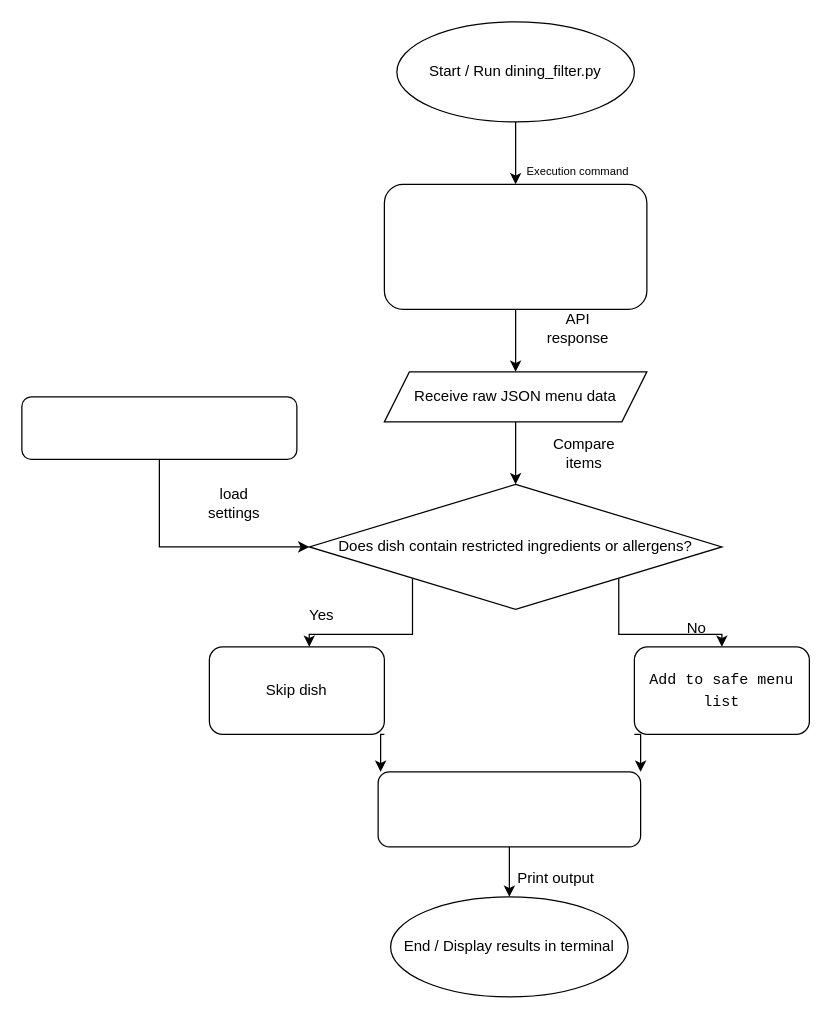
Some shapes in this 831 by 1019 pixel diagram are drawn without their labels. Each missing label, with the box of its shape:
Format safe dishes by dining hall & station: (377, 771, 641, 847)
Read user dietary restrictions (e.g., avoid beef, nuts): (21, 396, 297, 459)
Send HTTP GET request to Purdue Dining API using requests: (383, 183, 647, 309)
